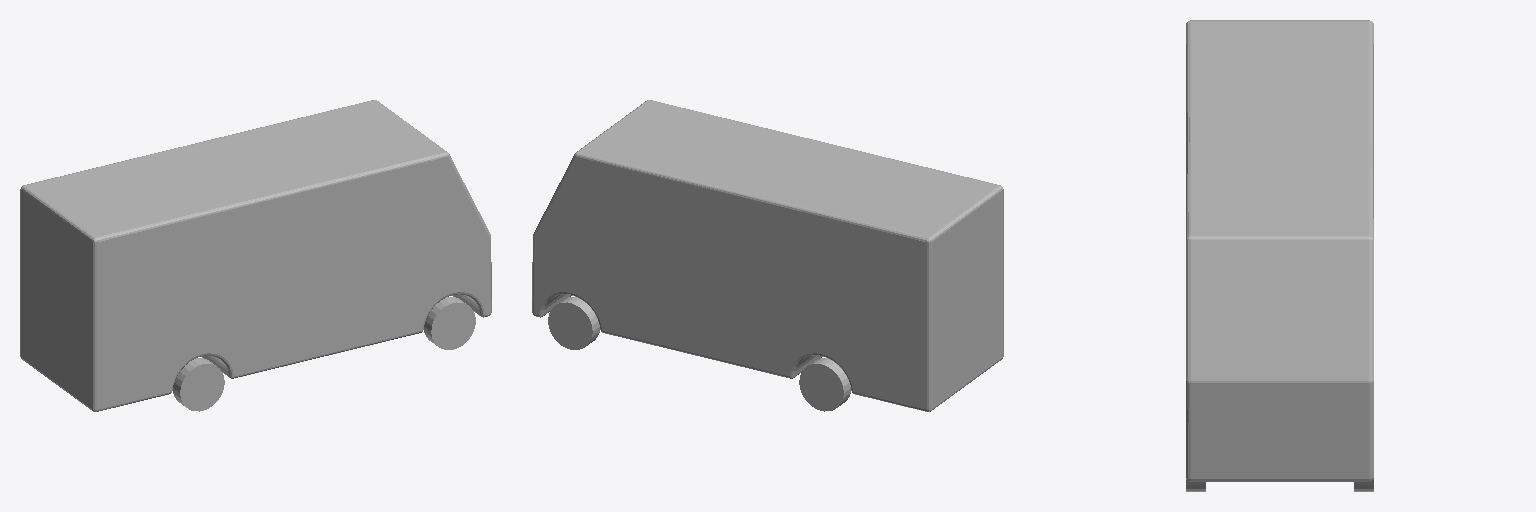
URDF robot description (liesse_model):
<?xml version="1.0" encoding="utf-8"?>
<!-- This URDF was automatically created by SolidWorks to URDF Exporter! Originally created by [author] ([email redacted]) 
     Commit Version: 1.5.1-0-g916b5db  Build Version: 1.5.7152.31018
     For more information, please see http://wiki.ros.org/sw_urdf_exporter -->
<robot
  name="liesse_model">
  <link
    name="base_link">
    <inertial>
      <origin
        xyz="1.3197 4.1571E-11 1.3102"
        rpy="0 0 0" />
      <mass
        value="31203" />
      <inertia
        ixx="27217"
        ixy="5.4907E-06"
        ixz="1445.1"
        iyy="110080"
        iyz="6.5133E-06"
        izz="104580" />
    </inertial>
    <visual>
      <origin
        xyz="0 0 0"
        rpy="0 0 0" />
      <geometry>
        <mesh
          filename="package://liesse_model/meshes/base_link.STL" />
      </geometry>
      <material
        name="">
        <color
          rgba="0.75294 0.75294 0.75294 1" />
      </material>
    </visual>
    <collision>
      <origin
        xyz="0 0 0"
        rpy="0 0 0" />
      <geometry>
        <mesh
          filename="package://liesse_model/meshes/base_link.STL" />
      </geometry>
    </collision>
  </link>
</robot>

--- Facts derived from the render (not from the file) ---
Views: 3 orthographic renders of the robot side by side, from view 1: azimuth 30°, elevation 25°; view 2: azimuth 150°, elevation 25°; view 3: azimuth 270°, elevation 25°.
Model liesse_model with 1 links and 0 joints (none), rooted at base_link, posed every joint at zero.
Links seen in each view (by area): view 1: base_link; view 2: base_link; view 3: base_link.
Link boxes in pixels (x1,y1,x2,y2): base_link: (20, 100, 491, 411); base_link: (532, 100, 1003, 411); base_link: (1186, 20, 1373, 491).
Size in the robot's own frame: 6.25 by 2.03 by 2.96 metres.
Meshes: 1 distinct files referenced, 1 mesh visuals loaded (1 binary STL).
